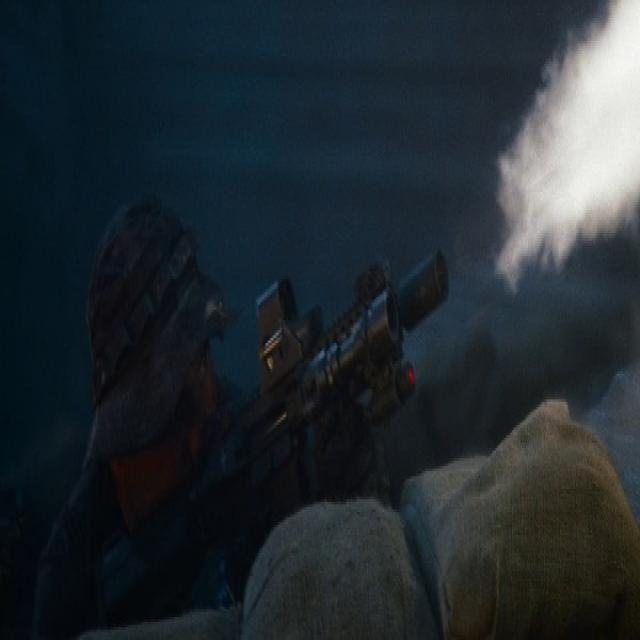rifle: (98, 233, 457, 640)
